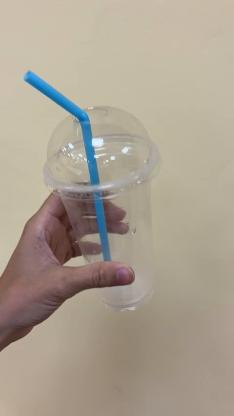Plastic Cup: (44, 104, 162, 312)
